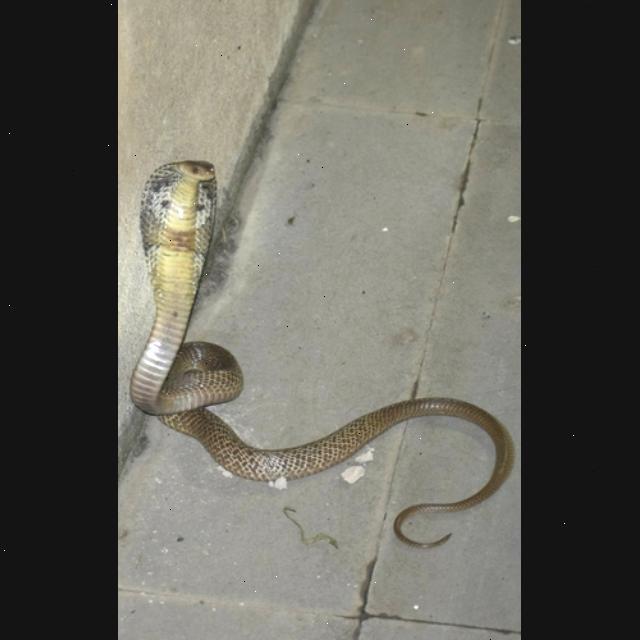snake: (124, 155, 508, 560)
